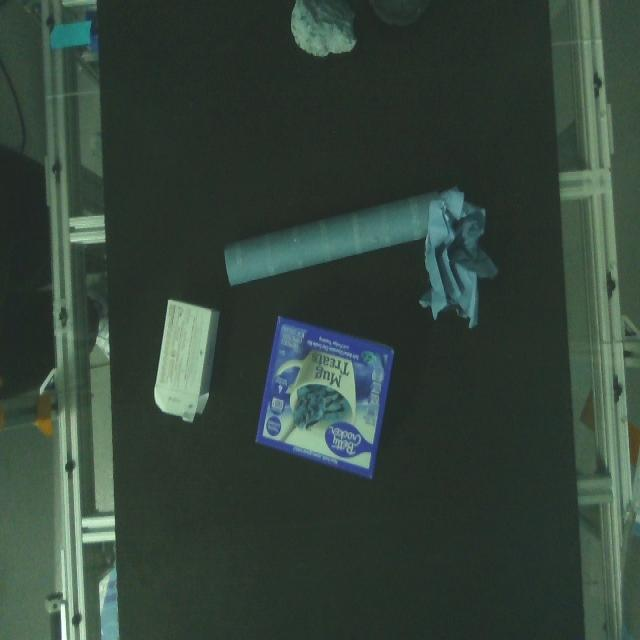non-paper: (278, 0, 362, 72), (373, 0, 444, 25)
paper: (254, 311, 408, 488), (220, 189, 451, 286), (412, 179, 514, 337), (147, 294, 228, 428)
